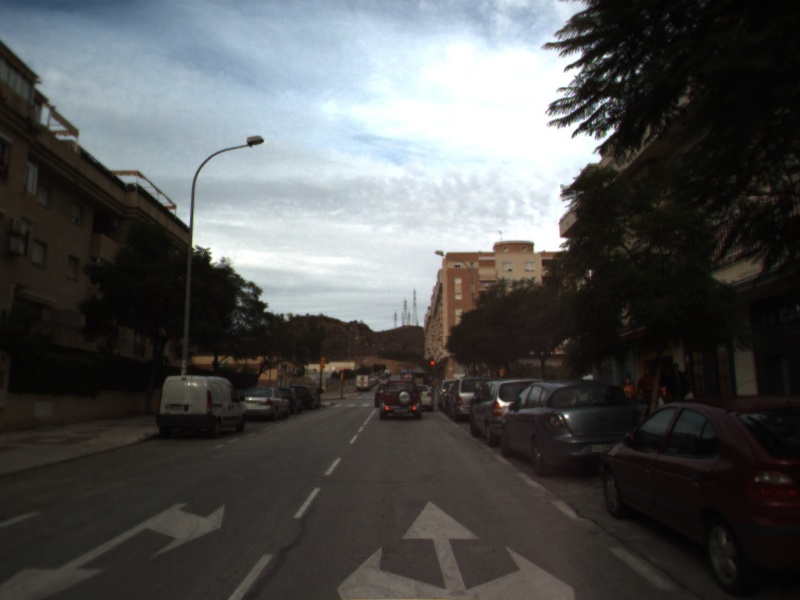STRAIGHT_LEFT_RIGHT: (334, 496, 579, 600)
